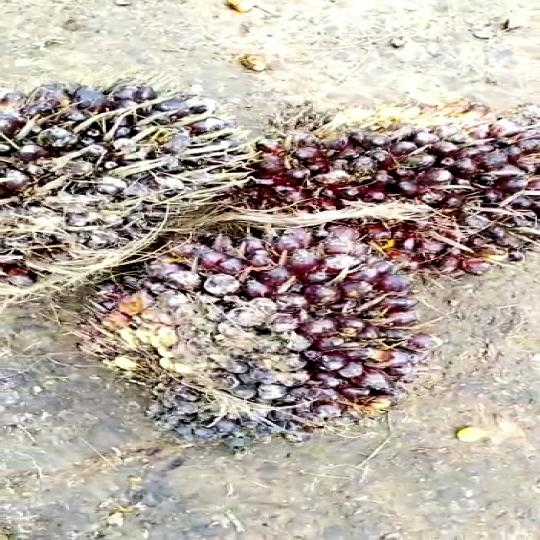kurang masak: (103, 216, 421, 458), (0, 75, 246, 313), (234, 79, 540, 262)
